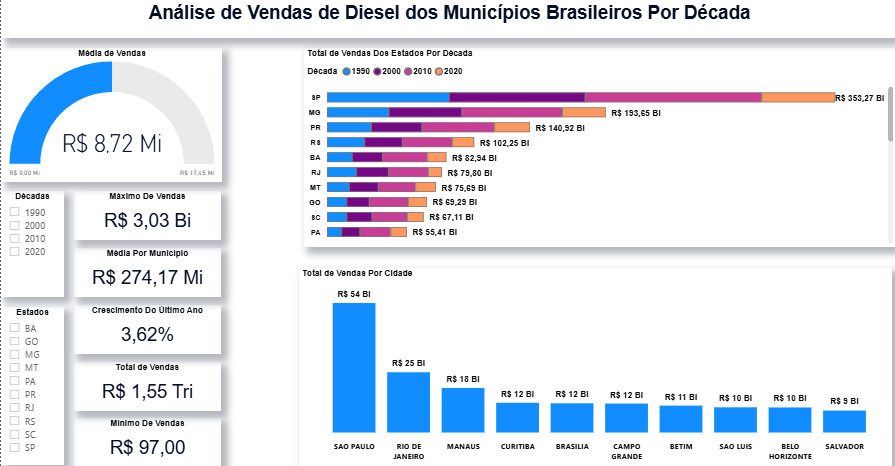

What the dashboard file says about the page in this screenshot:
{"tool":"powerbi","page":{"name":"Página 1","canvas":[1280,720],"ordinal":0},"visuals":[{"type":"card","title":"Total de Vendas","fields":{"Values":["vendas-anuais-de-oleo-diesel-por-municipio.Vendas Totais"]},"box":[103.9,518.6,210,70],"z":0},{"type":"card","title":"Média Por Município","fields":{"Values":["vendas-anuais-de-oleo-diesel-por-municipio.Média por Município"]},"box":[103.9,355.6,210,70],"z":1000},{"type":"columnChart","title":"Total de Vendas Por Cidade","fields":{"Y":["Sum(vendas-anuais-de-oleo-diesel-por-municipio.VENDAS)"],"Category":["vendas-anuais-de-oleo-diesel-por-municipio.MUNICÍPIO"]},"box":[425.7,384.3,847.1,284],"z":2000},{"type":"card","title":"Máximo De Vendas","fields":{"Values":["Max(vendas-anuais-de-oleo-diesel-por-municipio.VENDAS)"]},"box":[104.2,274.6,210,70],"z":3000},{"type":"card","title":"Mínimo De Vendas","fields":{"Values":["vendas-anuais-de-oleo-diesel-por-municipio.Venda Mínima Não Zero"]},"box":[103.9,598.6,210,70],"z":4000},{"type":"barChart","title":"Total de Vendas Dos Estados Por Década","fields":{"Series":["vendas-anuais-de-oleo-diesel-por-municipio.Década"],"Category":["vendas-anuais-de-oleo-diesel-por-municipio.UF"],"Y":["Sum(vendas-anuais-de-oleo-diesel-por-municipio.VENDAS)"]},"box":[432.9,70,847.1,284.3],"z":5000},{"type":"slicer","title":"Décadas","fields":{"Values":["vendas-anuais-de-oleo-diesel-por-municipio.Década"]},"box":[0,274.3,90,151.4],"z":6000},{"type":"slicer","title":"Estados","fields":{"Values":["vendas-anuais-de-oleo-diesel-por-municipio.UF"]},"box":[-0.1,439.6,90,226.2],"z":7000},{"type":"textbox","box":[1.4,0,1278.6,55.7],"z":8000},{"type":"card","title":"Crescimento Do Último Ano","fields":{"Values":["vendas-anuais-de-oleo-diesel-por-municipio.Crescimento Anual %"]},"box":[103.9,437.6,210,70],"z":9000},{"type":"gauge","title":"Média de Vendas","fields":{"Y":["Avg(vendas-anuais-de-oleo-diesel-por-municipio.VENDAS)"]},"box":[1.4,70,314.3,191.4],"z":9001}]}

Visuals, with their boxes on the page's 1280x720 design canvas (x1, y1, x2, y2). These are canvas units, not pixel positions in the 895x466 screenshot, which may show the page scaled, cropped or inside an application window:
"Total de Vendas" card: <region>104, 519, 314, 589</region>
"Média Por Município" card: <region>104, 356, 314, 426</region>
"Total de Vendas Por Cidade" columnChart: <region>426, 384, 1273, 668</region>
"Máximo De Vendas" card: <region>104, 275, 314, 345</region>
"Mínimo De Vendas" card: <region>104, 599, 314, 669</region>
"Total de Vendas Dos Estados Por Década" barChart: <region>433, 70, 1280, 354</region>
"Décadas" slicer: <region>0, 274, 90, 426</region>
"Estados" slicer: <region>0, 440, 90, 666</region>
textbox: <region>1, 0, 1280, 56</region>
"Crescimento Do Último Ano" card: <region>104, 438, 314, 508</region>
"Média de Vendas" gauge: <region>1, 70, 316, 261</region>
